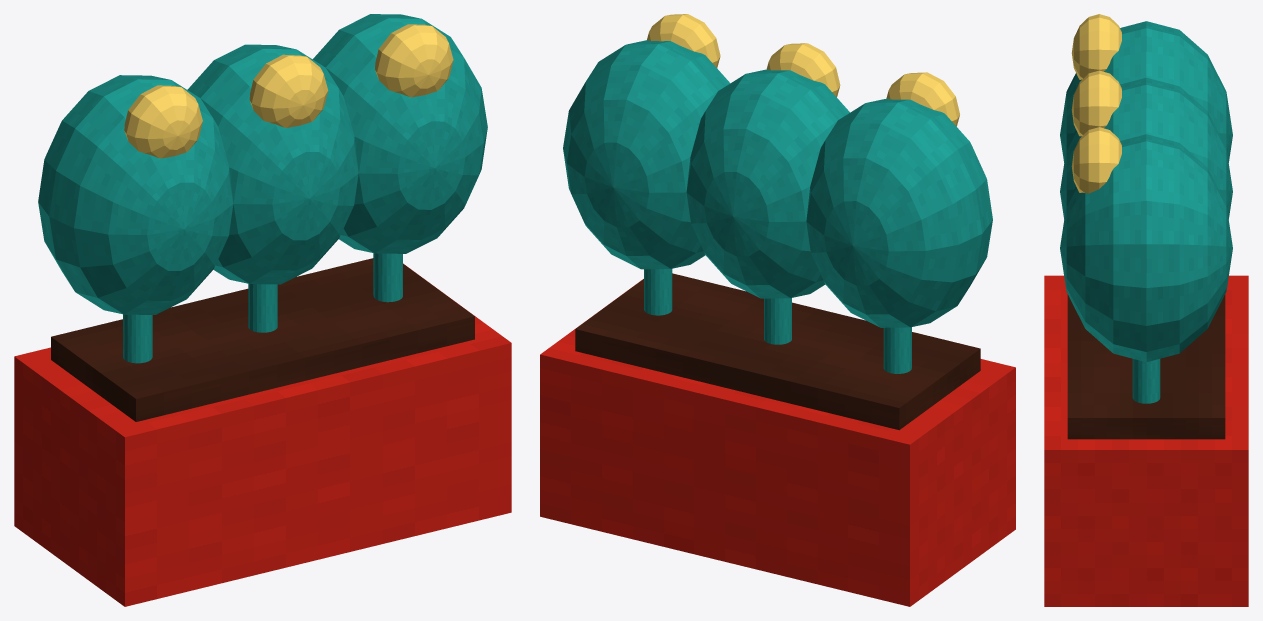
File: bp_decorplanter.glb
3 renders of one model, left to right at view 1: azimuth 30°, elevation 25°; view 2: azimuth 150°, elevation 25°; view 3: azimuth 270°, elevation 25°, orthographic. The views are drawn at different scales.
Visible parts, largest first — view 1: Planter, Soil, Leaves, Leaves.002, Leaves.001, Flower, Flower.002, Flower.001, Stem.002, Stem, Stem.001; view 2: Planter, Leaves, Soil, Leaves.002, Leaves.001, Flower.001, Flower, Flower.002, Stem, Stem.002, Stem.001; view 3: Planter, Leaves.002, Soil, Leaves, Leaves.001, Flower.002, Flower.001, Flower, Stem.002.
Part boxes in pixels (box(x1,y1,x2,y2)): Planter: box(14, 263, 511, 606); Soil: box(51, 258, 474, 421); Leaves: box(38, 75, 233, 314); Leaves.002: box(313, 14, 487, 253); Leaves.001: box(187, 44, 358, 284); Flower: box(124, 85, 202, 158); Flower.002: box(375, 24, 453, 97); Flower.001: box(249, 54, 328, 127); Stem.002: box(373, 253, 402, 302); Stem: box(123, 314, 152, 363); Stem.001: box(248, 284, 277, 332); Planter: box(540, 280, 1015, 606); Leaves: box(806, 99, 992, 327); Soil: box(575, 273, 980, 430); Leaves.002: box(563, 40, 730, 269); Leaves.001: box(686, 69, 849, 298); Flower.001: box(766, 43, 840, 97); Flower: box(886, 72, 959, 126); Flower.002: box(647, 14, 720, 67); Stem: box(883, 327, 911, 373); Stem.002: box(644, 269, 672, 315); Stem.001: box(764, 298, 791, 344); Planter: box(1044, 275, 1248, 606); Leaves.002: box(1060, 134, 1232, 362); Soil: box(1067, 294, 1225, 439); Leaves: box(1060, 21, 1232, 162); Leaves.001: box(1060, 77, 1232, 219); Flower.002: box(1071, 127, 1121, 193); Flower.001: box(1071, 70, 1121, 136); Flower: box(1071, 14, 1121, 79); Stem.002: box(1132, 359, 1160, 403).
Bounding box in the file's own units: 1.16 × 1.25 × 0.5199.
4 materials, 3 textured.
